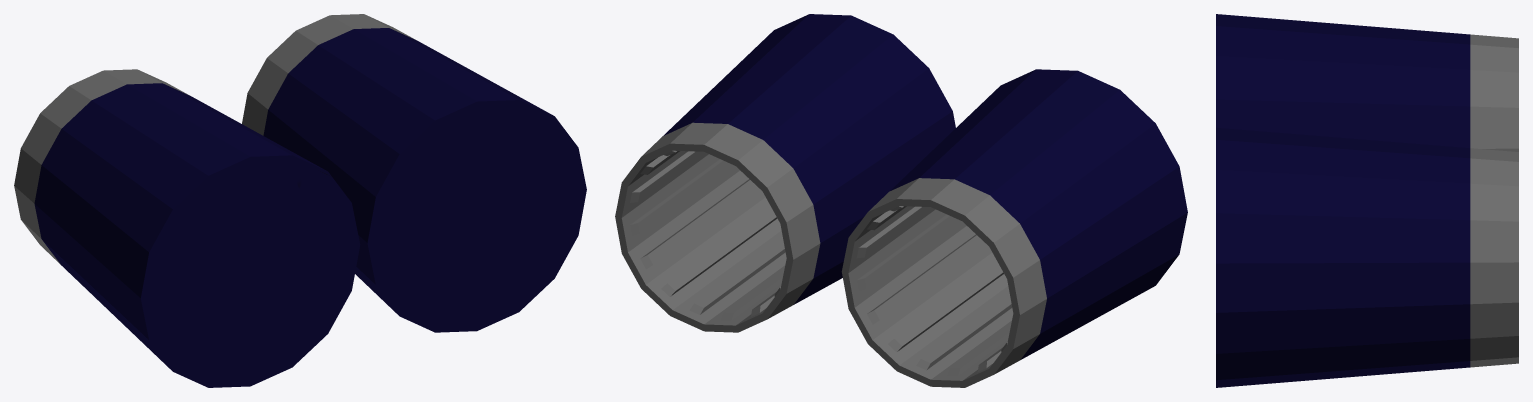
The model's file is 6_Thruster.fbx.
3 renders of one model, left to right at view 1: azimuth 30°, elevation 25°; view 2: azimuth 150°, elevation 25°; view 3: azimuth 270°, elevation 25°, orthographic. The views are drawn at different scales.
Parts seen in each view (by area): view 1: Fighter6_thruster; view 2: Fighter6_thruster; view 3: Fighter6_thruster.
Part boxes in pixels (<box>): Fighter6_thruster: <box>14,14,586,387</box>; Fighter6_thruster: <box>615,14,1187,387</box>; Fighter6_thruster: <box>1216,14,1518,387</box>.
Bounding box in the file's own units: 0.553 × 0.272 × 0.3163.
1 material, 1 textured.
